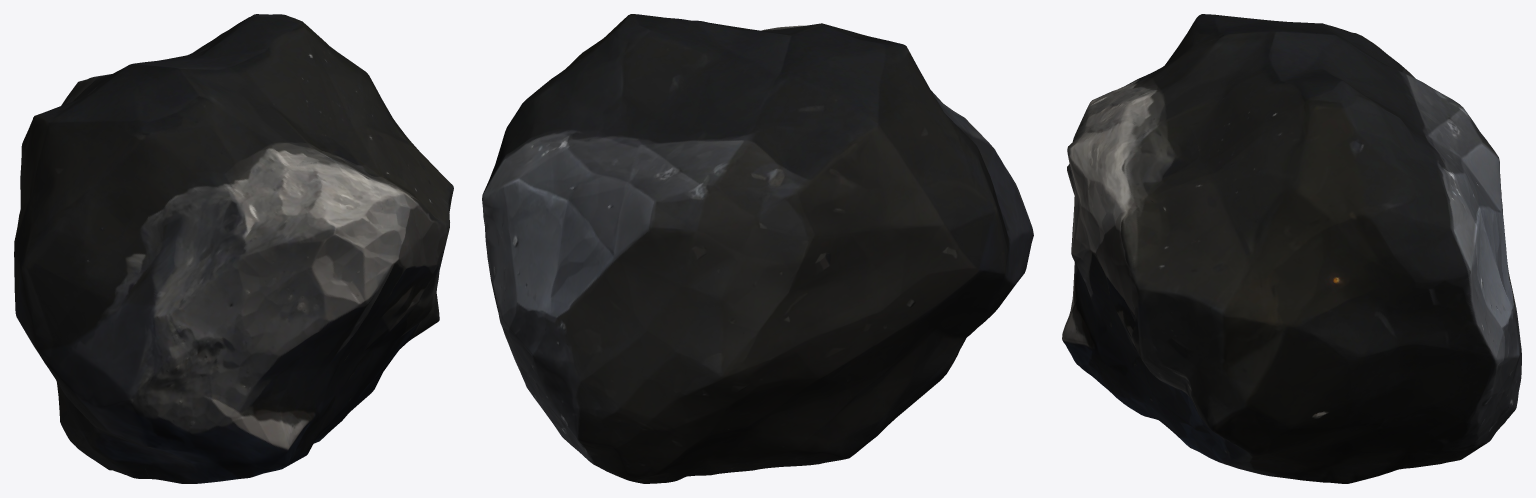
Rendered from asteroid1.glb.
3 renders of one model, left to right at view 1: azimuth 30°, elevation 25°; view 2: azimuth 150°, elevation 25°; view 3: azimuth 270°, elevation 25°, orthographic. The views are drawn at different scales.
Size of the model in its own units: 2 by 1.79 by 1.84.
1 material, 1 textured.
